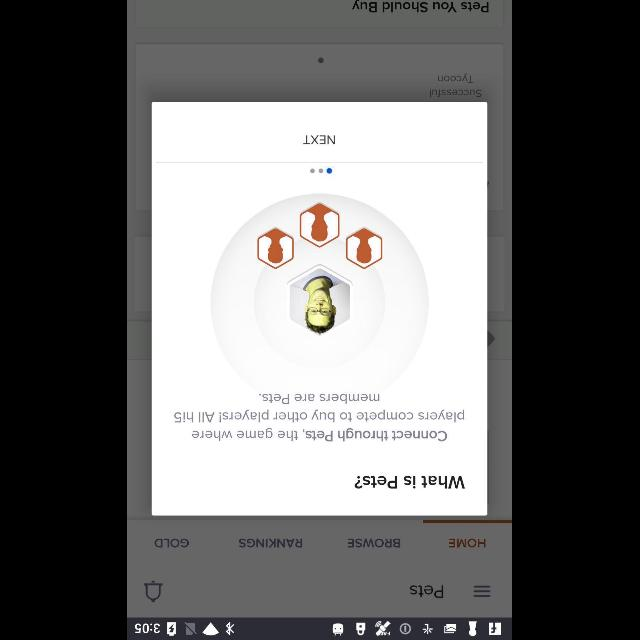icon: (144, 580, 164, 602), (474, 586, 492, 596)
image: (210, 194, 430, 392)
pageindicator: (311, 168, 333, 175)
panel: (152, 101, 488, 515)
text: (174, 394, 466, 442), (352, 0, 490, 12), (355, 475, 465, 489), (240, 538, 302, 548), (348, 538, 402, 548), (411, 584, 444, 598), (430, 90, 482, 98), (449, 538, 486, 548), (156, 538, 190, 548), (304, 135, 336, 145), (438, 74, 474, 82)
uppertaskbar: (128, 617, 512, 639)
